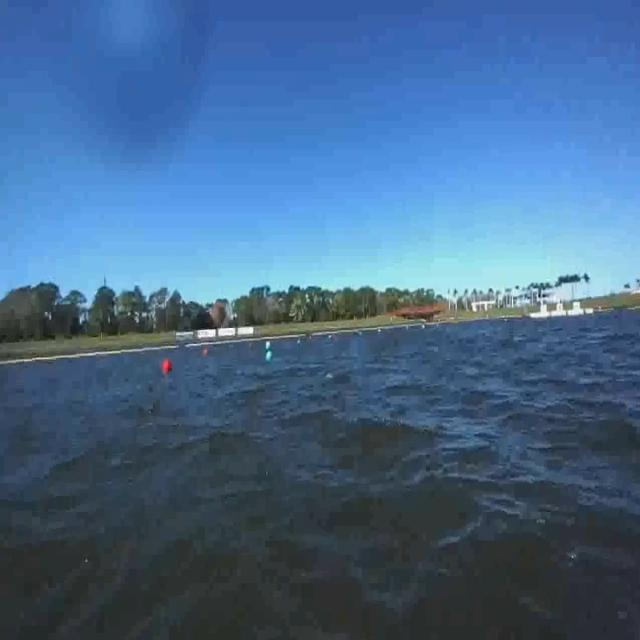green-buoy: (266, 348, 274, 366)
red-buoy: (163, 359, 173, 373)
